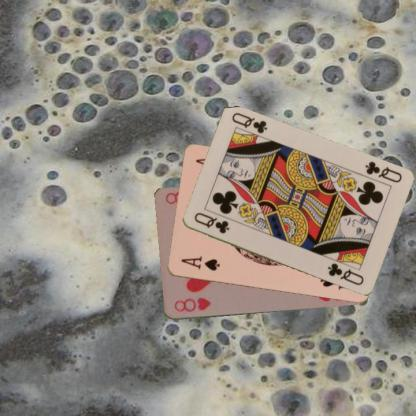8h: (172, 295, 212, 314)
As: (178, 255, 221, 273)
Qc: (362, 158, 403, 184), (191, 210, 231, 235)
